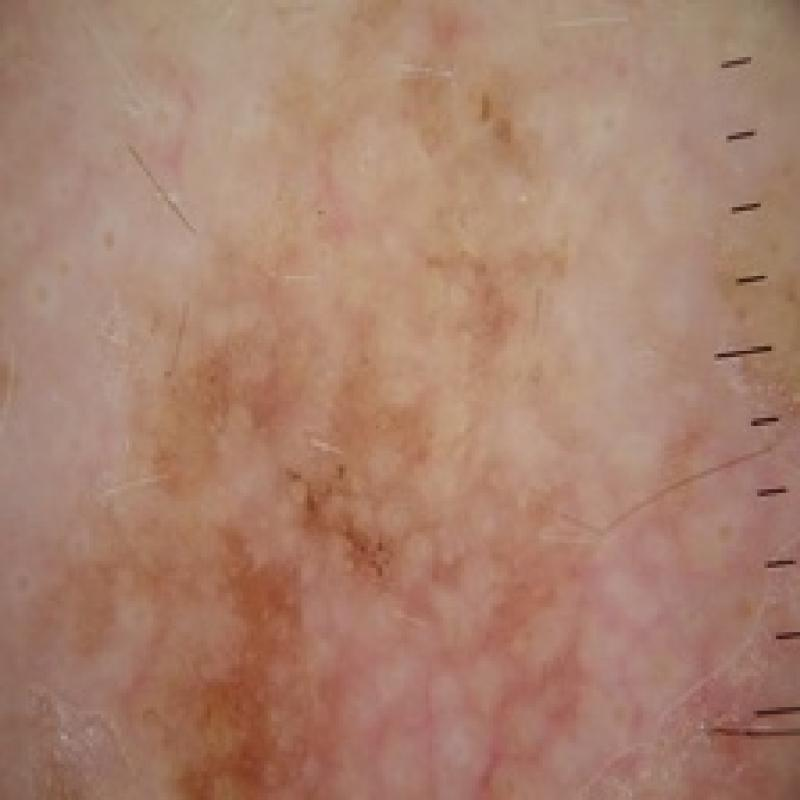malignant: (67, 44, 604, 787)
